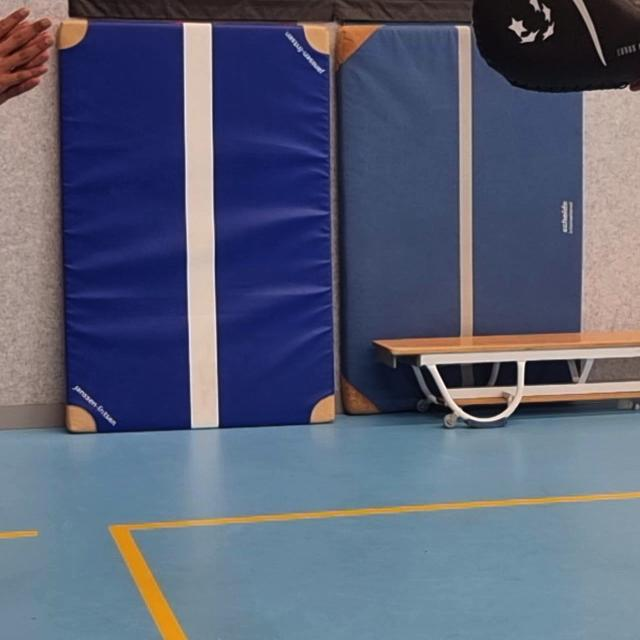paddle: (474, 0, 640, 96)
